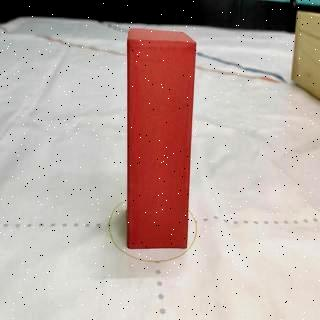redbox: (126, 26, 196, 248)
